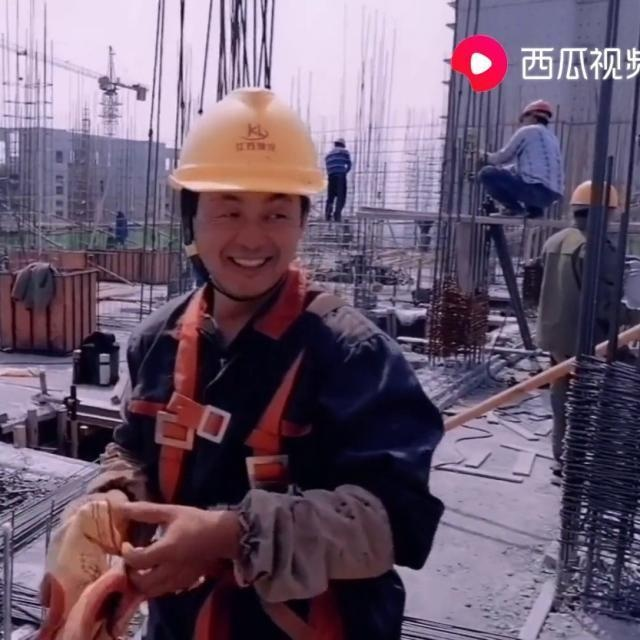Arnes_seguridad: (127, 264, 361, 503)
